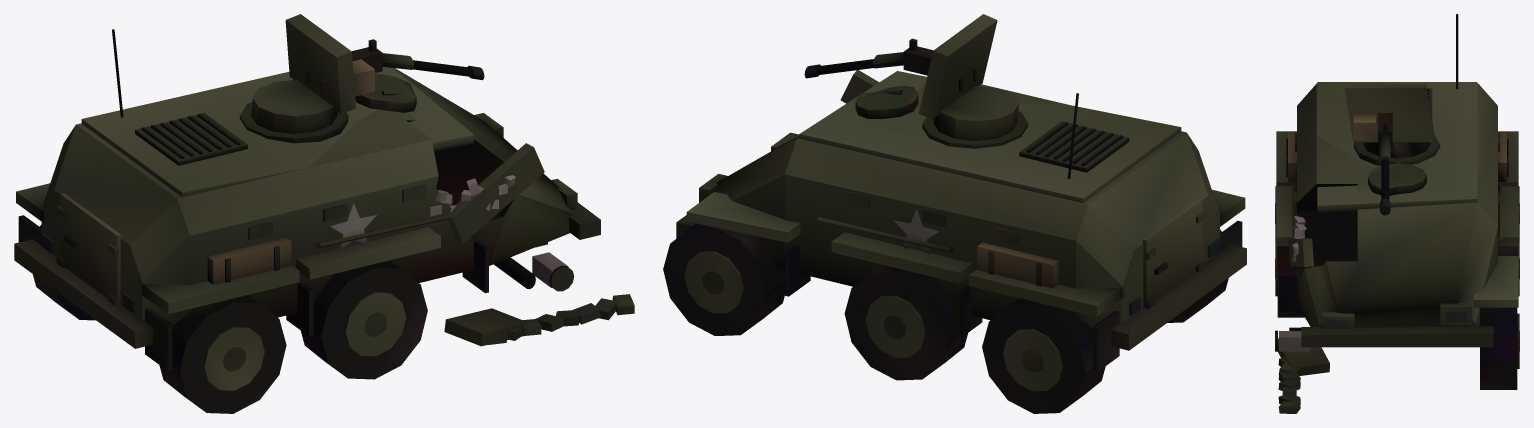
The model's file is veh.military-apc.wrecked.glb.
3 views of the same model, side by side, from view 1: azimuth 30°, elevation 25°; view 2: azimuth 150°, elevation 25°; view 3: azimuth 270°, elevation 25° (orthographic). The views are drawn at different scales.
Parts seen in each view (by area): view 1: body, wheelRL, wheelML, turret, gun, wheelFL, wheelRR; view 2: body, wheelFR, wheelRR, wheelMR, turret, gun, wheelRL; view 3: body, turret, wheelFR, gun, wheelML, wheelFL, wheelMR.
Boxes of the visible parts, x1,y1,x2,y2 form: body: [14, 29, 634, 370]; wheelRL: [159, 295, 286, 413]; wheelML: [301, 260, 427, 379]; turret: [239, 14, 355, 143]; gun: [306, 39, 484, 96]; wheelFL: [532, 252, 574, 291]; wheelRR: [32, 224, 95, 320]; body: [676, 70, 1246, 371]; wheelFR: [663, 223, 784, 335]; wheelRR: [982, 298, 1105, 413]; wheelMR: [844, 264, 967, 380]; turret: [918, 14, 1028, 148]; gun: [804, 38, 977, 91]; wheelRL: [1167, 229, 1228, 322]; body: [1276, 14, 1518, 413]; turret: [1344, 84, 1440, 165]; wheelFR: [1480, 307, 1519, 389]; gun: [1353, 113, 1392, 215]; wheelML: [1275, 241, 1304, 317]; wheelFL: [1275, 330, 1309, 351]; wheelMR: [1498, 241, 1519, 296].
Size of the model in its own units: 5.53 by 3.28 by 3.
